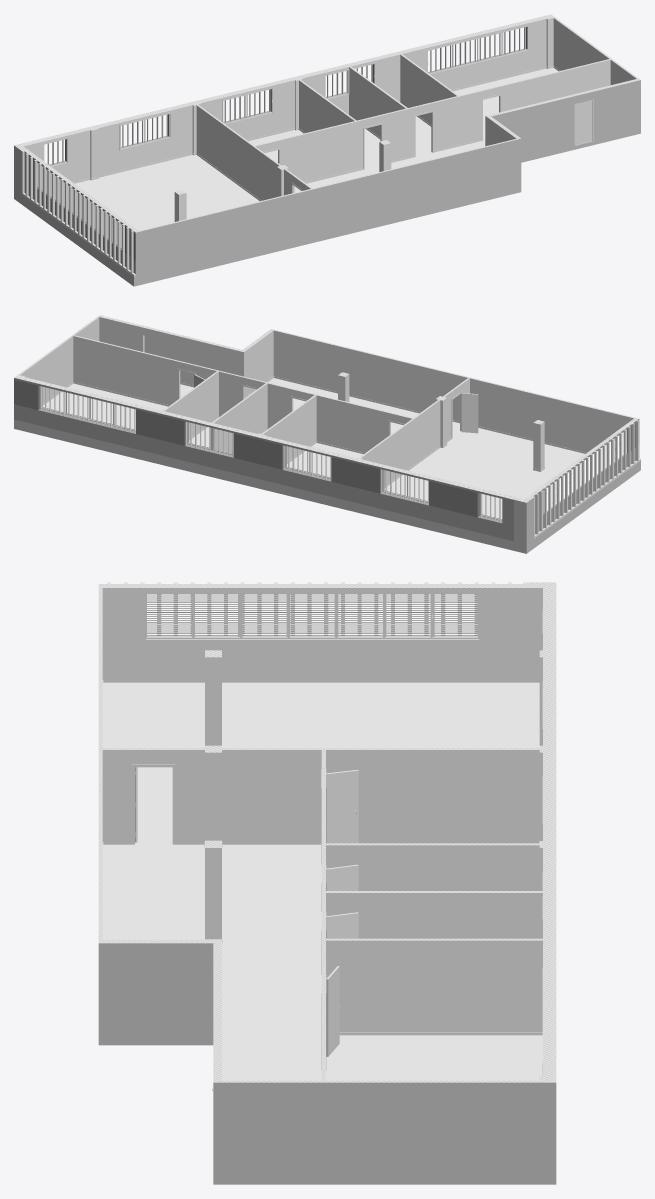
3 views of the same model, one above another, from view 1: azimuth 30°, elevation 25°; view 2: azimuth 150°, elevation 25°; view 3: azimuth 270°, elevation 25° (orthographic). The views are drawn at different scales.
Visible parts, largest first — view 1: masonry_exterior_01, masonry_01, masonry_indoor_01, ground_office_01, section_face_01, masonry_indoor_04, masonry_indoor_03, grid_sur_01, masonry_indoor_02, rail_double_01, windows_01, ground_living_01 (+7 smaller); view 2: masonry_exterior_01, masonry_01, masonry_indoor_01, ground_office_01, masonry_indoor_04, masonry_indoor_03, section_face_01, masonry_indoor_02, grid_sur_01, rail_double_01, ground_office_05, ground_living_01 (+6 smaller); view 3: masonry_exterior_01, ground_office_01, ground_living_01, masonry_indoor_01, masonry_indoor_04, masonry_01, masonry_indoor_03, section_face_01, masonry_indoor_02, brise_soleil_sur01, ground_office_05, ground_hall_01 (+7 smaller).
Boxes of the visible parts, x1=… form: masonry_exterior_01: x1=14, y1=27, x2=640, y2=286; masonry_01: x1=256, y1=59, x2=636, y2=182; masonry_indoor_01: x1=24, y1=105, x2=310, y2=221; ground_office_01: x1=75, y1=155, x2=259, y2=230; section_face_01: x1=14, y1=14, x2=640, y2=232; masonry_indoor_04: x1=402, y1=18, x2=608, y2=89; masonry_indoor_03: x1=301, y1=54, x2=456, y2=137; grid_sur_01: x1=21, y1=150, x2=135, y2=276; masonry_indoor_02: x1=199, y1=80, x2=354, y2=139; rail_double_01: x1=47, y1=27, x2=525, y2=164; windows_01: x1=43, y1=25, x2=529, y2=167; ground_living_01: x1=294, y1=146, x2=465, y2=192; masonry_exterior_01: x1=14, y1=378, x2=640, y2=553; masonry_01: x1=75, y1=317, x2=467, y2=421; masonry_indoor_01: x1=361, y1=378, x2=633, y2=486; ground_office_01: x1=384, y1=428, x2=584, y2=518; masonry_indoor_04: x1=20, y1=336, x2=216, y2=405; masonry_indoor_03: x1=165, y1=371, x2=313, y2=452; section_face_01: x1=14, y1=315, x2=638, y2=502; masonry_indoor_02: x1=263, y1=395, x2=411, y2=462; grid_sur_01: x1=532, y1=420, x2=640, y2=538; rail_double_01: x1=40, y1=386, x2=500, y2=522; ground_office_05: x1=42, y1=383, x2=167, y2=429; ground_living_01: x1=268, y1=378, x2=461, y2=437; masonry_exterior_01: x1=98, y1=943, x2=556, y2=1184; ground_office_01: x1=103, y1=682, x2=539, y2=842; ground_living_01: x1=103, y1=842, x2=321, y2=1034; masonry_indoor_01: x1=102, y1=588, x2=542, y2=745; masonry_indoor_04: x1=326, y1=940, x2=542, y2=1031; masonry_01: x1=102, y1=750, x2=321, y2=939; masonry_indoor_03: x1=326, y1=845, x2=542, y2=938; section_face_01: x1=98, y1=582, x2=556, y2=1082; masonry_indoor_02: x1=326, y1=750, x2=542, y2=841; brise_soleil_sur01: x1=147, y1=594, x2=477, y2=637; ground_office_05: x1=326, y1=1035, x2=542, y2=1080; ground_hall_01: x1=222, y1=1034, x2=321, y2=1080.
Size of the model in its own units: 28.34 by 2.7 by 10.96.
51 materials, 44 textured.
